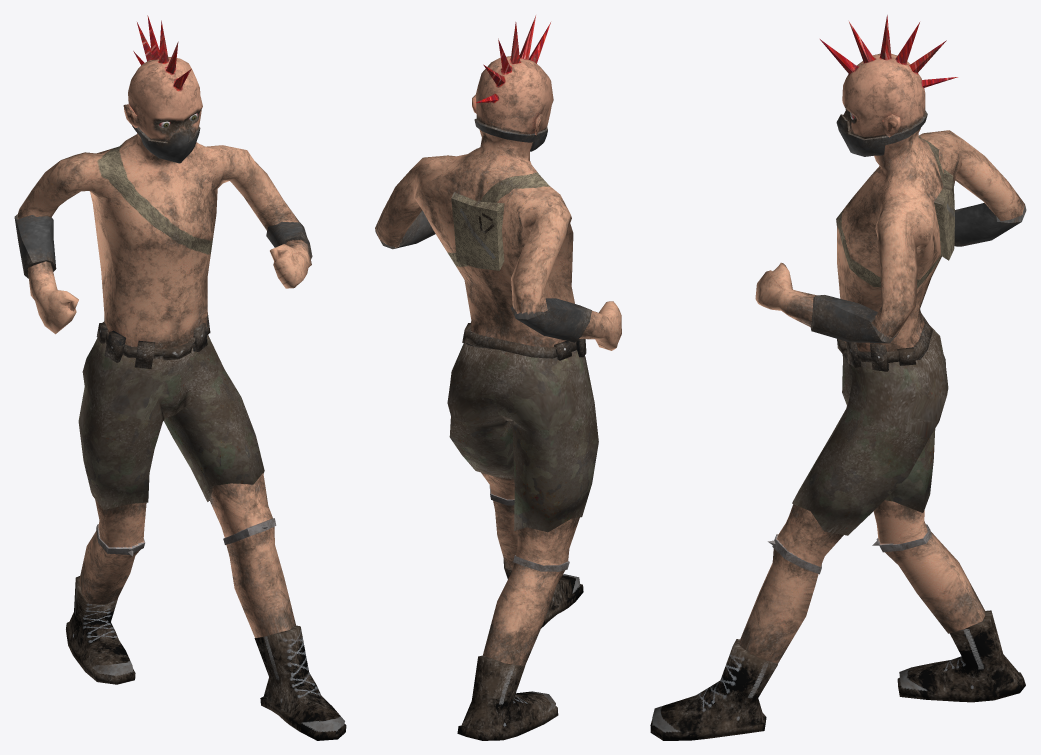
File: Anim_ataque_d1_npc2.0018.obj
3 renders of one model, left to right at view 1: azimuth 30°, elevation 25°; view 2: azimuth 150°, elevation 25°; view 3: azimuth 270°, elevation 25°, orthographic. The views are drawn at different scales.
Parts seen in each view (by area): view 1: polySurface1; view 2: polySurface1; view 3: polySurface1.
Part boxes in pixels (bbox=[...]): polySurface1: bbox=[14, 15, 346, 740]; polySurface1: bbox=[375, 15, 621, 740]; polySurface1: bbox=[650, 15, 1026, 740].
Bounding box in the file's own units: 3.87 × 9.81 × 4.82.
2 materials, 2 textured.
